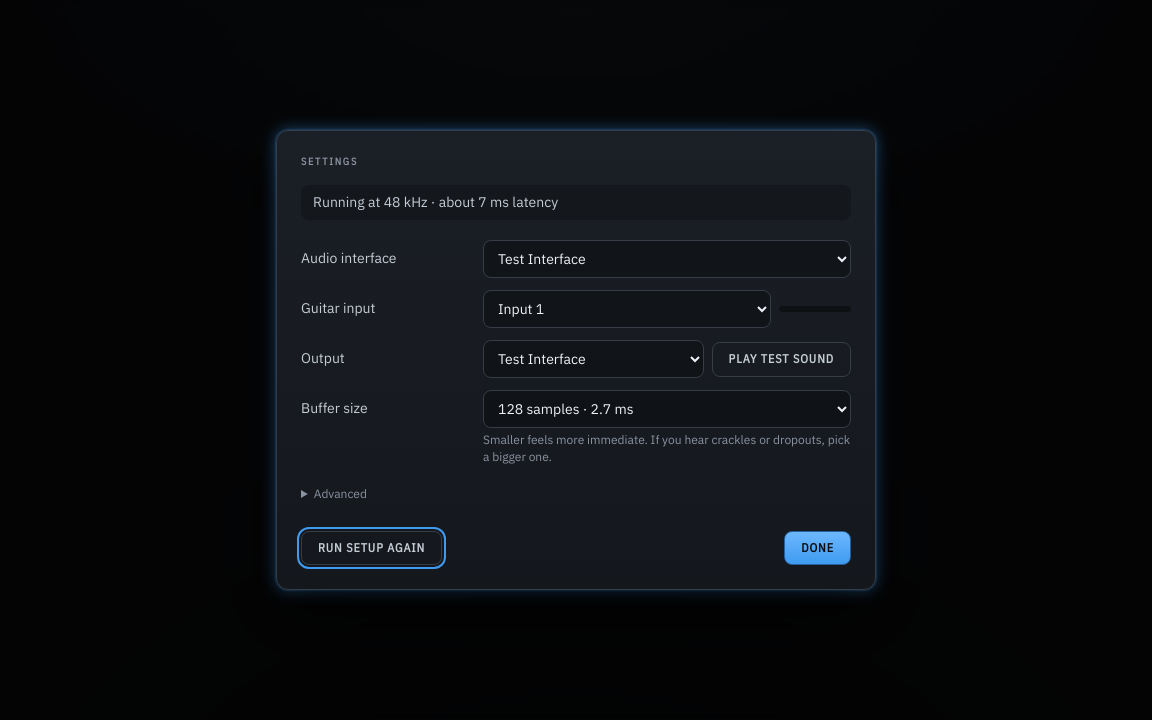
Test: Settings: changes go to the engine, one key at a time › shows an error the change came back with, and clears it on the next good change
The image size is (1152, 720).
expect the message "Running at 48 kHz · about 7 ms latency" is shown: met, box [301,185,851,220]
Step 1. Select "256 samples · 5.3 ms" in the dropdown labelled "Buffer size" → {"x": 667, "y": 409}, box [483,390,851,428]
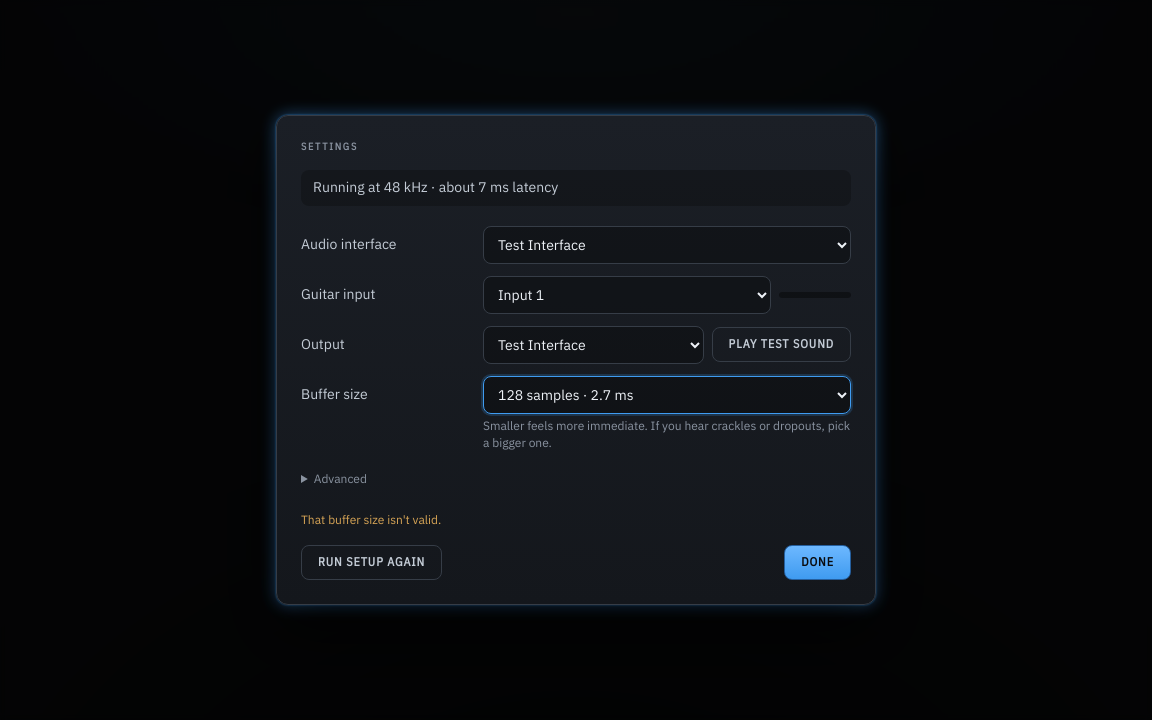
expect the message "That buffer size isn't valid." is shown: met, box [301,512,441,527]
Step 2. Select "64 samples · 1.3 ms" in the dropdown labelled "Buffer size" → {"x": 667, "y": 395}, box [483,376,851,414]
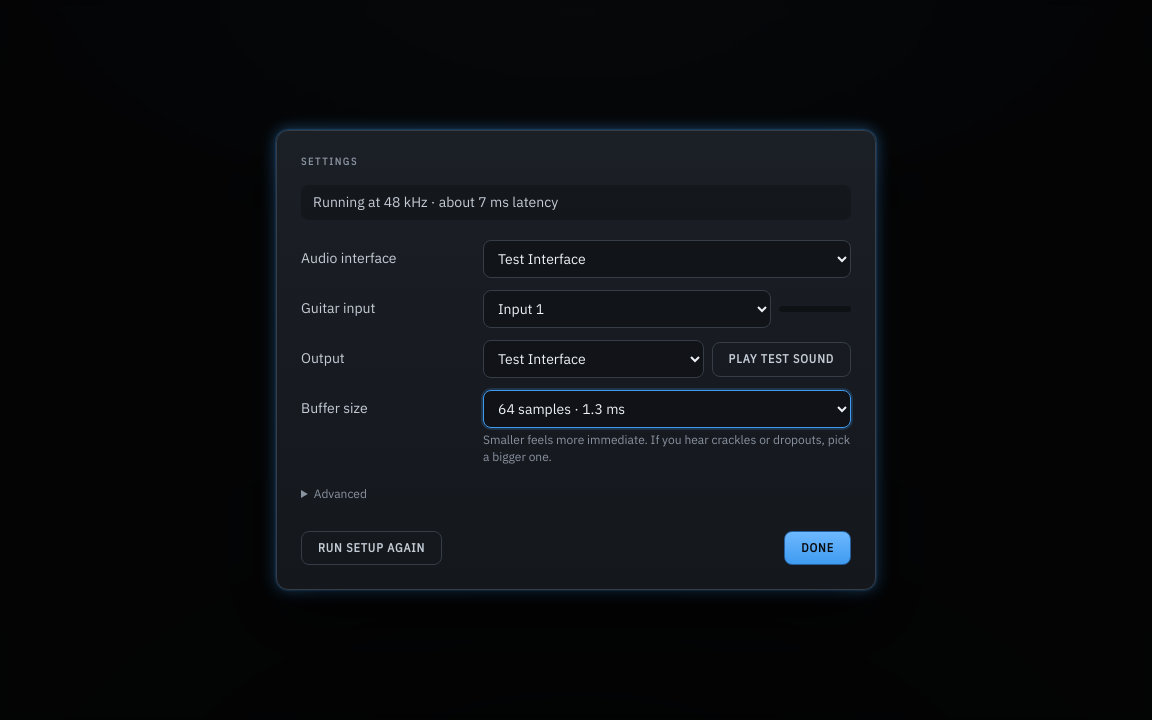
expect the message "That buffer size isn't valid." is gone: met
